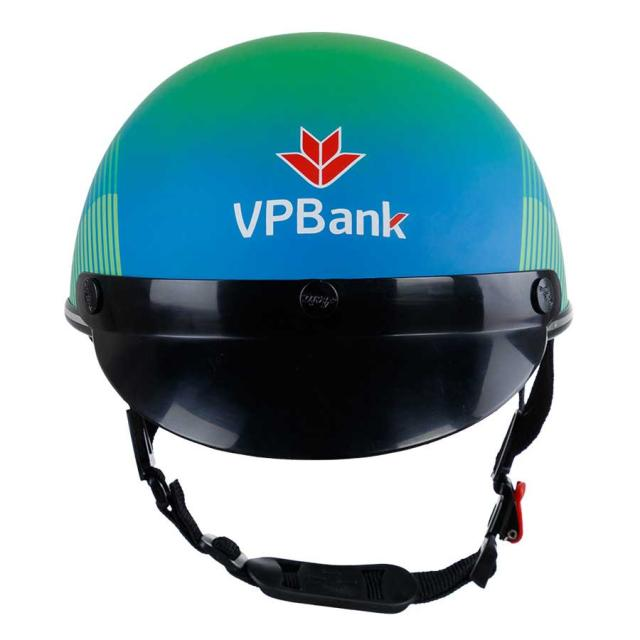Helmet: (62, 29, 574, 608)
